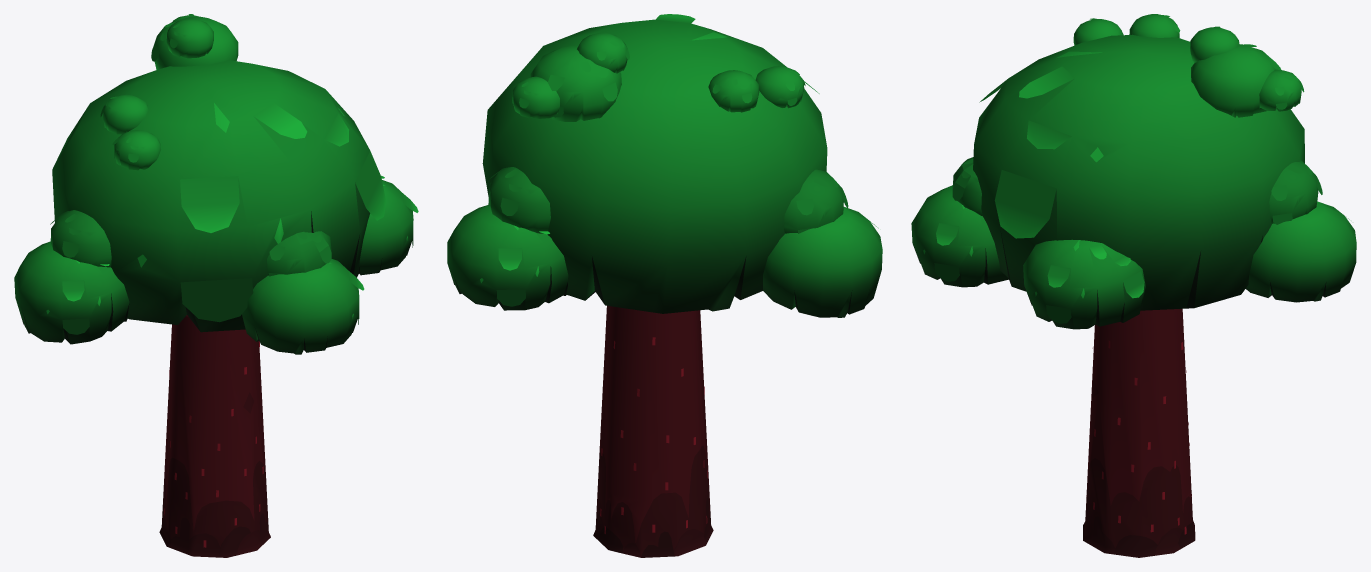
File: Tree_Oak_V2.fbx
3 renders of one model, left to right at view 1: azimuth 30°, elevation 25°; view 2: azimuth 150°, elevation 25°; view 3: azimuth 270°, elevation 25°, orthographic. The views are drawn at different scales.
Parts seen in each view (by area): view 1: pPlane16; view 2: pPlane16; view 3: pPlane16.
Boxes of the visible parts, bbox=[...] form: pPlane16: bbox=[14, 14, 418, 557]; pPlane16: bbox=[447, 14, 882, 557]; pPlane16: bbox=[911, 14, 1356, 557].
Bounding box in the file's own units: 13.35 × 16.95 × 13.45.
